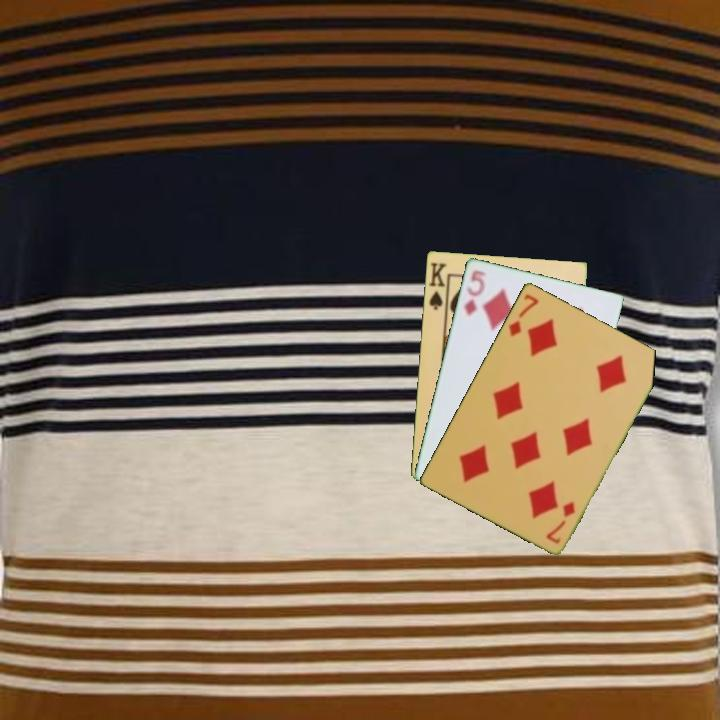5d: (460, 266, 489, 319)
7d: (542, 497, 578, 547), (505, 290, 541, 339)
Ks: (425, 259, 449, 312)
